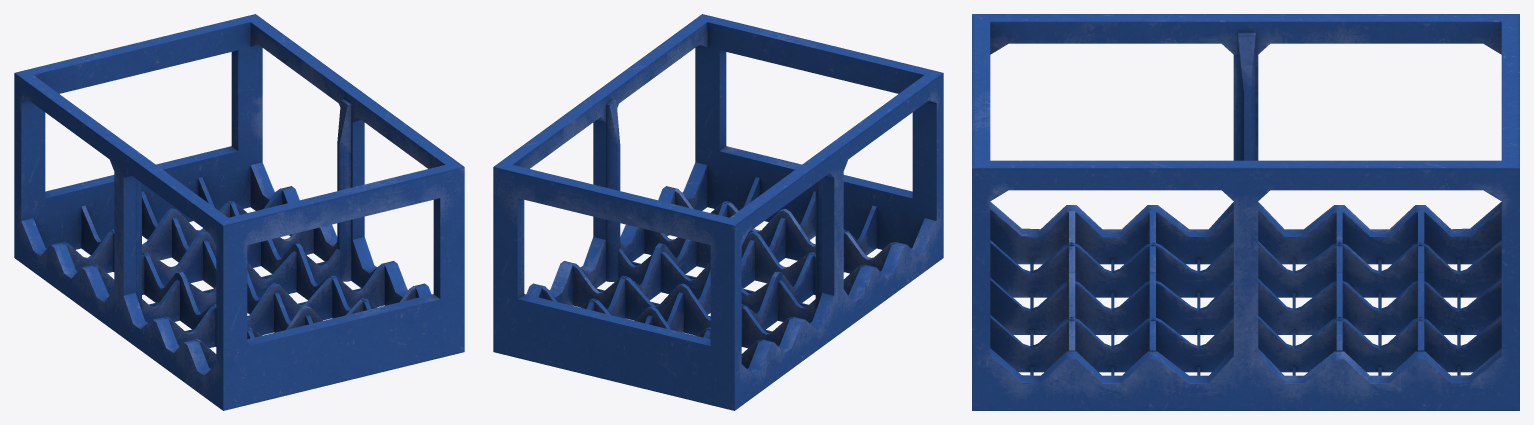
The model's file is SM_BeerCrate.fbx.
The picture shows the model from 3 angles, left to right: view 1: azimuth 30°, elevation 25°; view 2: azimuth 150°, elevation 25°; view 3: azimuth 270°, elevation 25°; orthographic projection. The views are drawn at different scales.
Parts seen in each view (by area): view 1: SM_BeerCrate_LOD0; view 2: SM_BeerCrate_LOD0; view 3: SM_BeerCrate_LOD0.
Boxes of the visible parts, left/top/right/bottom form: SM_BeerCrate_LOD0: left=14, top=14, right=464, bottom=410; SM_BeerCrate_LOD0: left=493, top=14, right=943, bottom=410; SM_BeerCrate_LOD0: left=972, top=14, right=1519, bottom=410.
Bounding box in the file's own units: 30 × 45 × 22.
